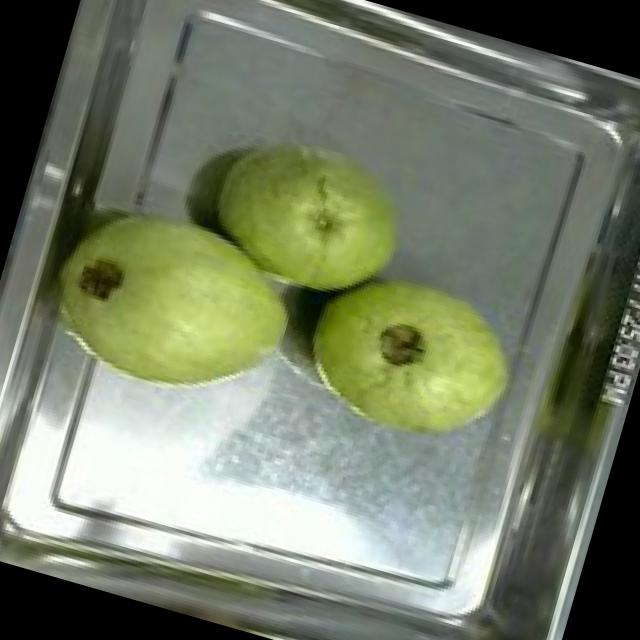Fruit: (22, 164, 318, 430), (281, 242, 541, 470), (188, 106, 432, 326)
